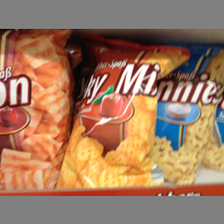chips: (63, 35, 166, 186), (1, 29, 71, 190), (154, 45, 224, 183)
